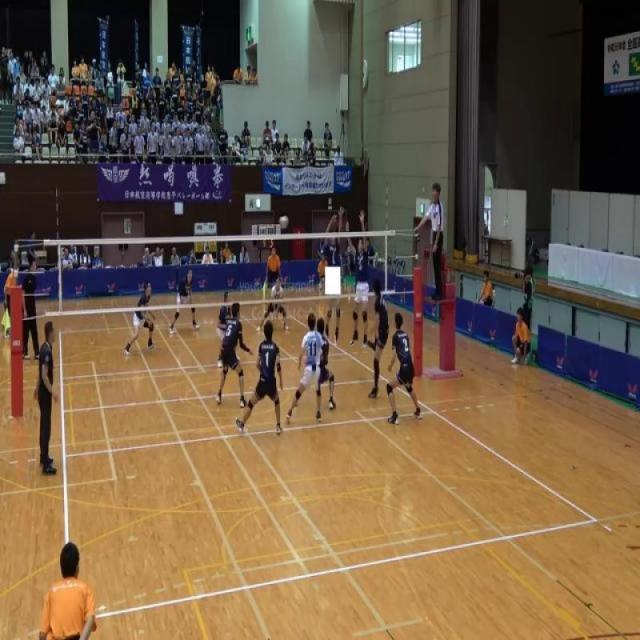volleyball: (278, 214, 290, 231)
